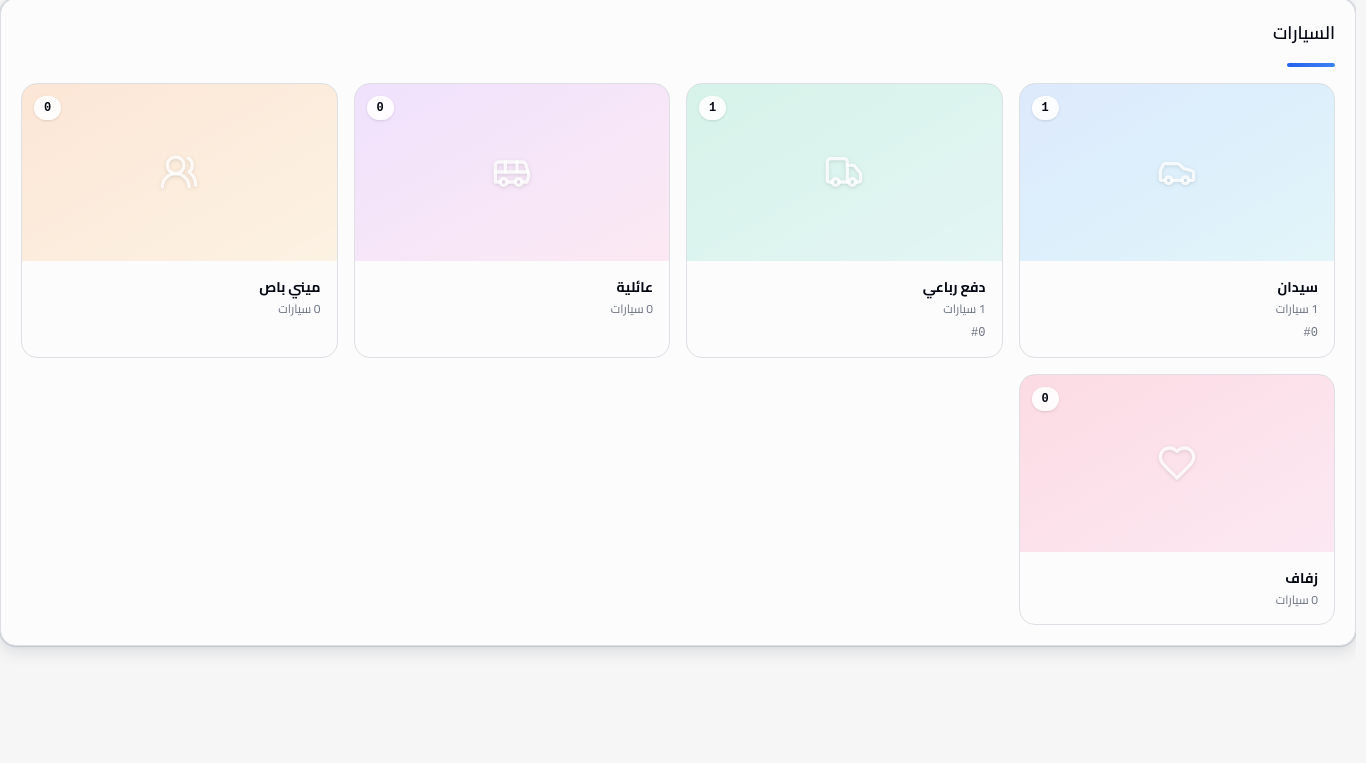
Test case: CarAdmin cars visible directly, no expand needed › switching category shows the new category cars directly
The width and height of the screenshot is (1366, 763).
Click the button with test id "category-card-sedan" at (1177, 220), box [1018,83,1335,358]
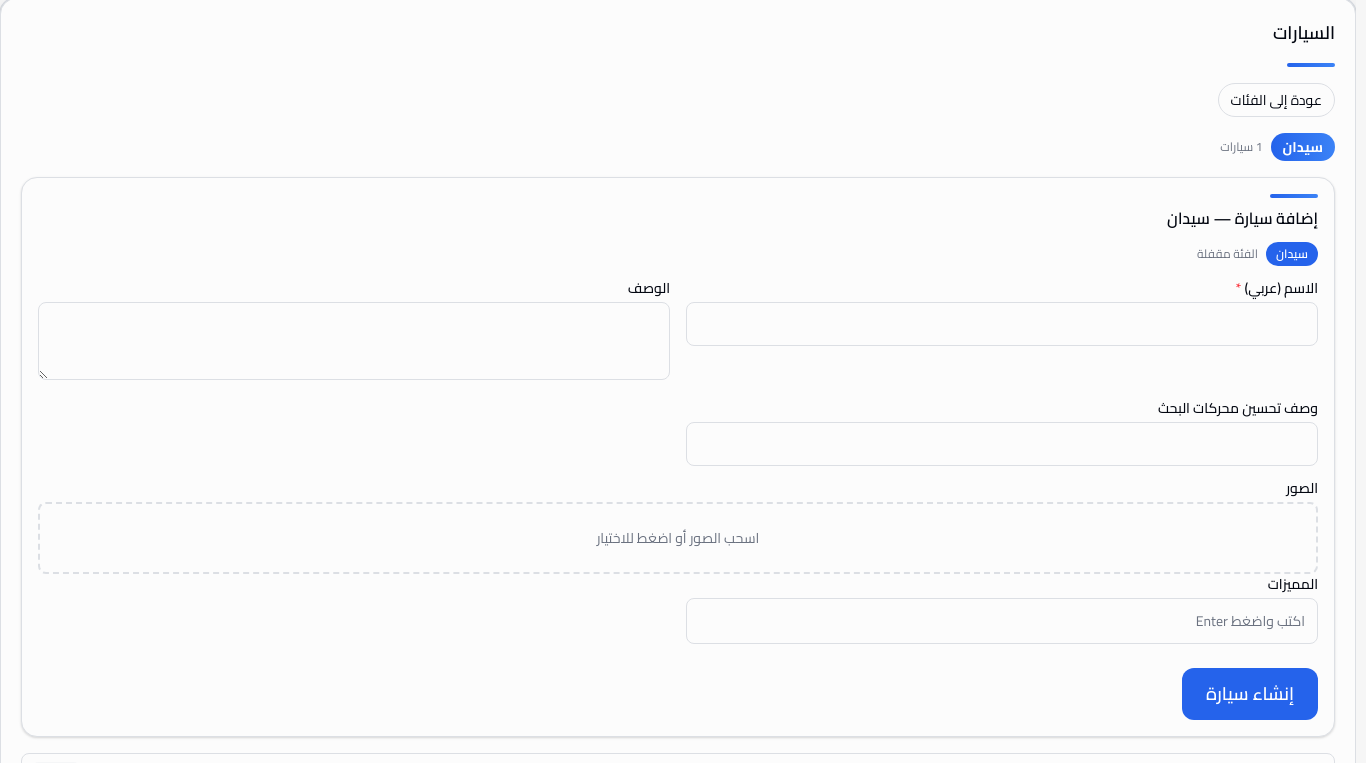
Click the button with test id "category-back" at (1276, 100), box [1218,83,1335,117]
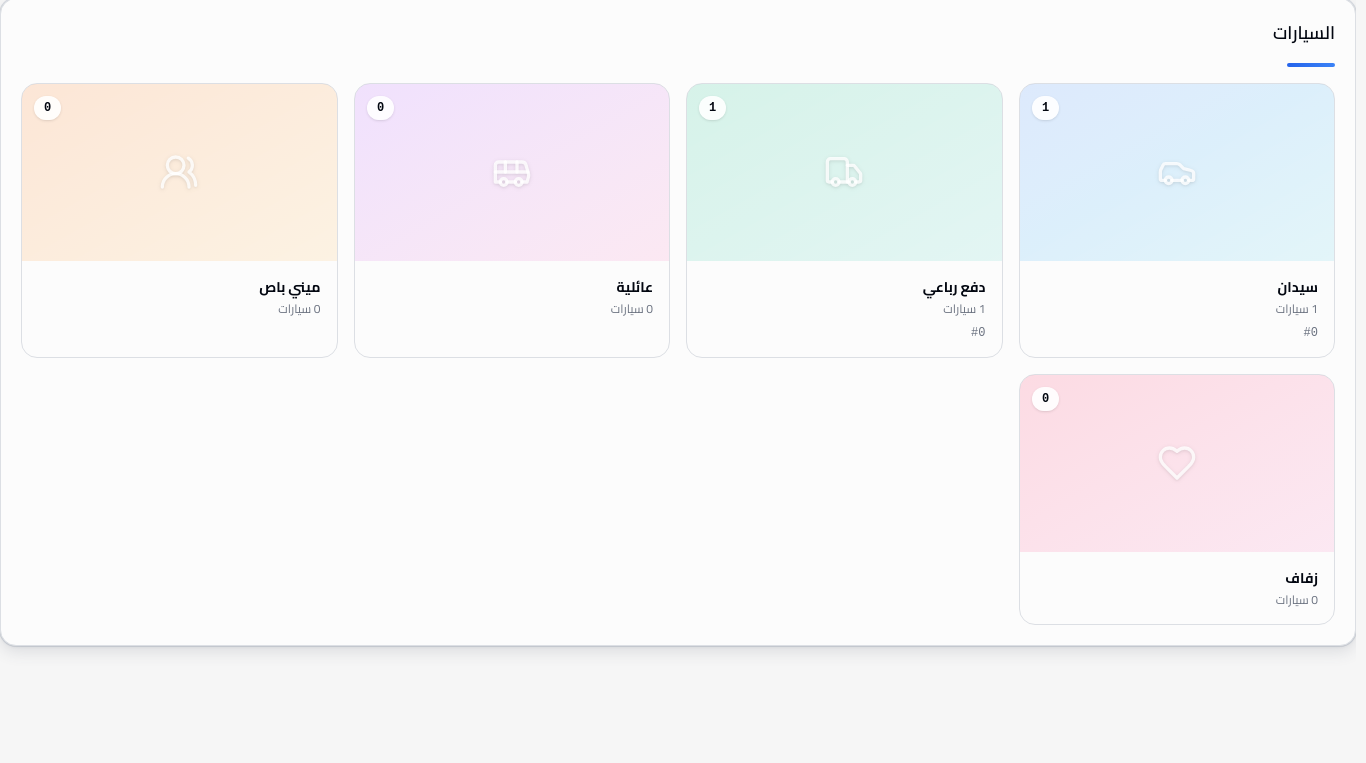
Now the element with test id "category-grid" is shown
Click the button with test id "category-card-suv" at (844, 220), box [686,83,1002,358]
(page scrolled)
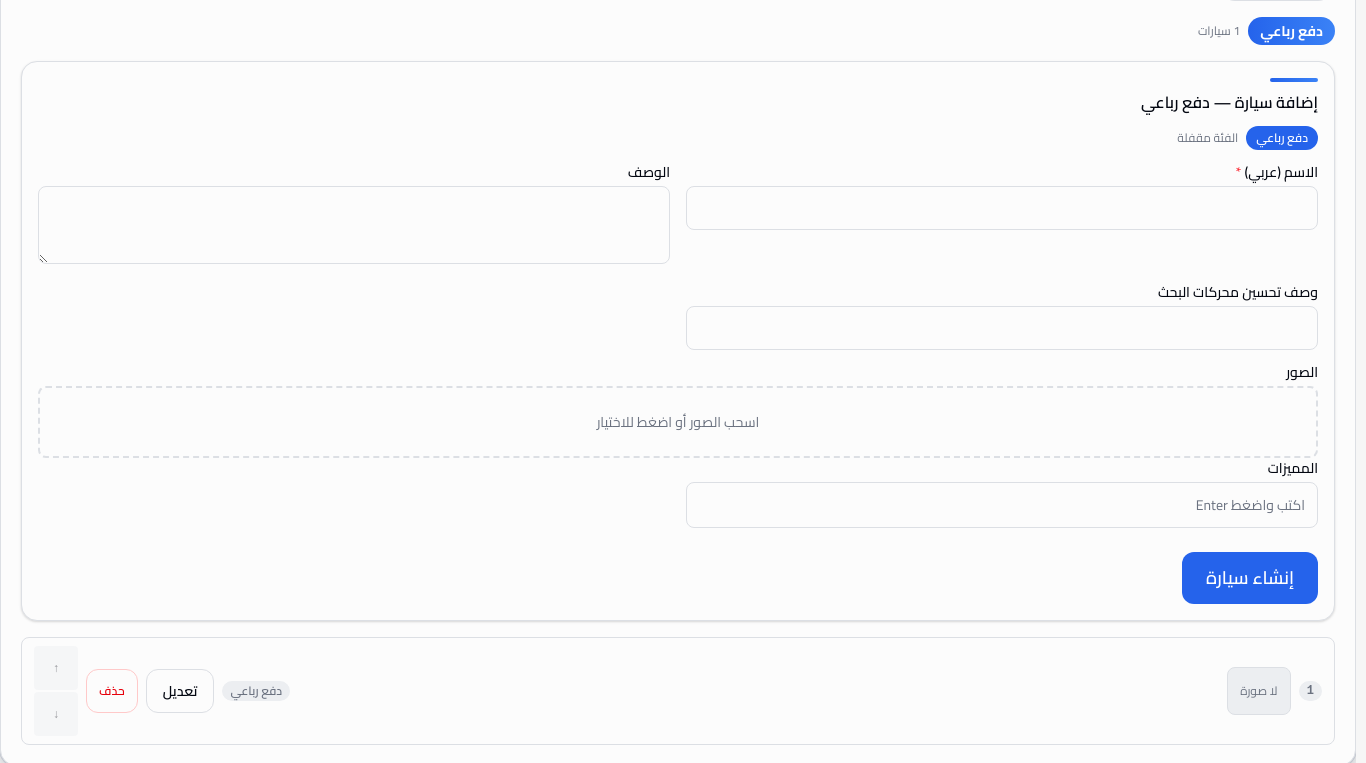
Now the button with test id "car-imagerow-edit-car-suv-1-0" is shown, box [146,669,214,713]
